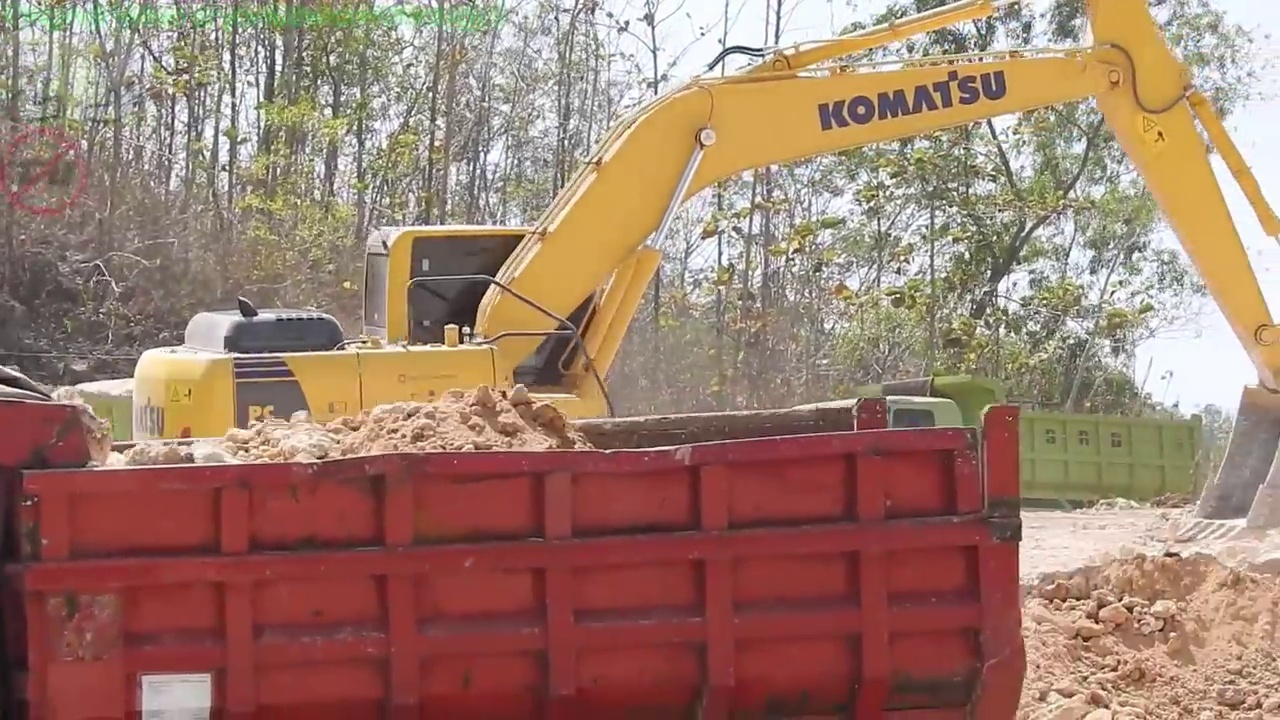excavator: (124, 1, 1280, 655)
truck: (1, 386, 1029, 720), (836, 374, 1220, 564)
